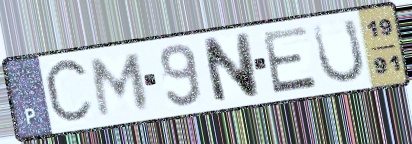9: (157, 42, 203, 109)
C: (41, 54, 96, 129)
E: (259, 23, 320, 96)
M: (89, 51, 152, 120)
N: (199, 29, 262, 107)
U: (310, 16, 368, 87)
